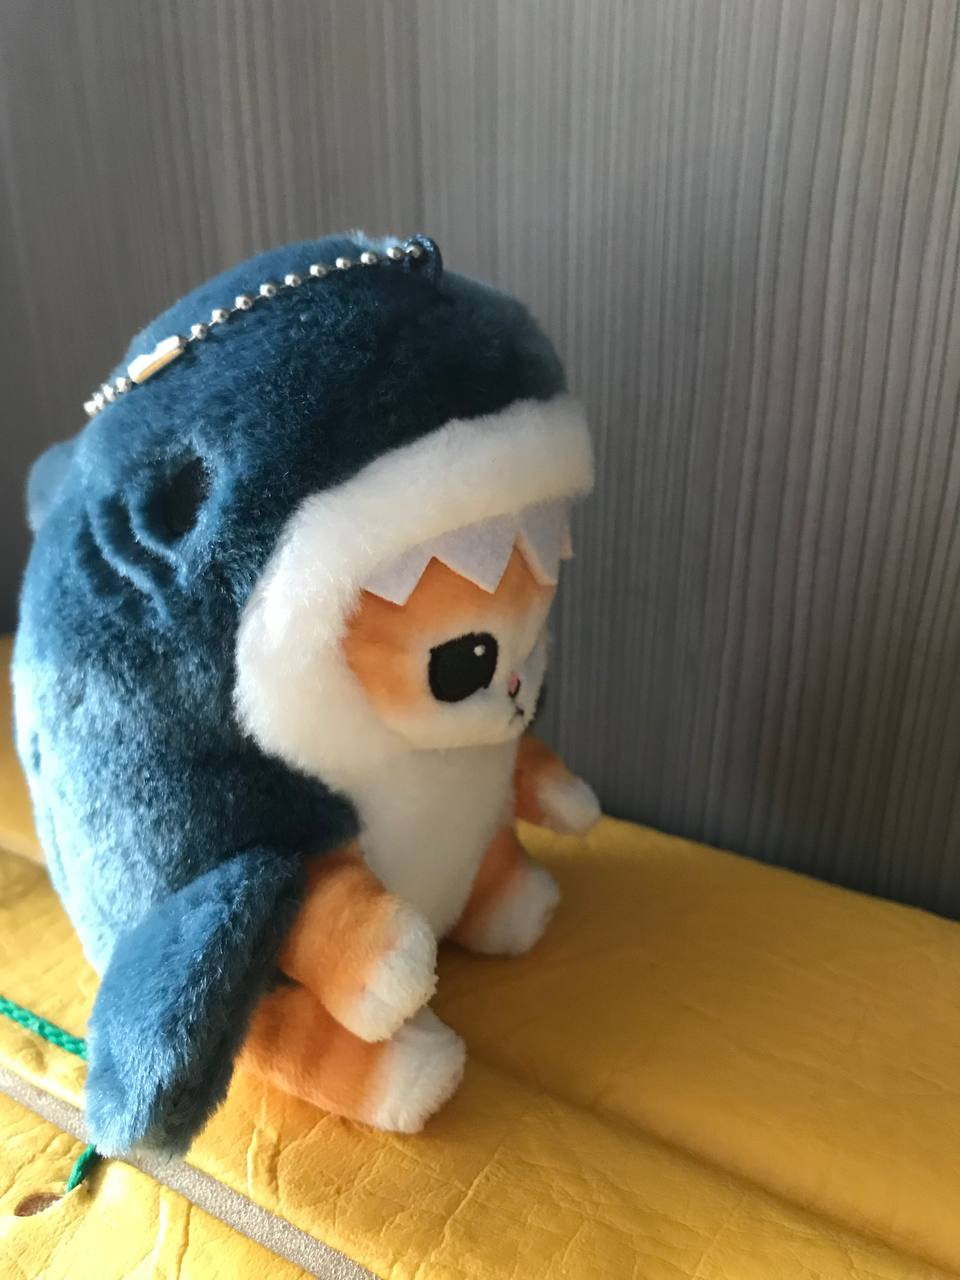cat_shark: (9, 230, 609, 1158)
